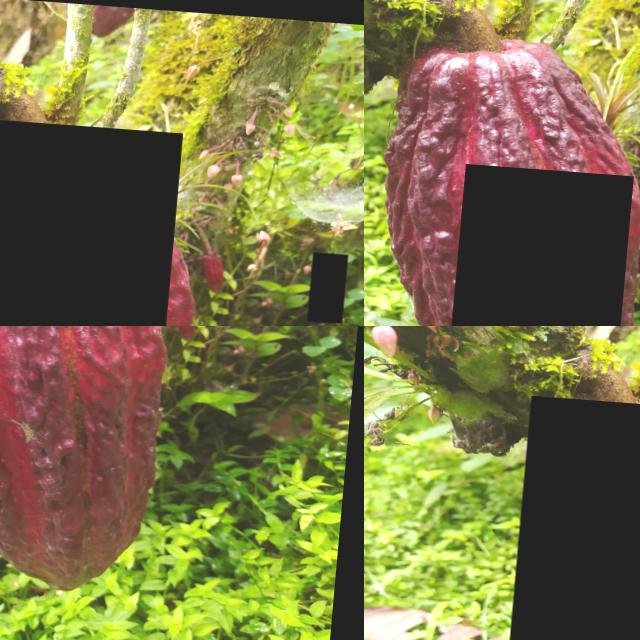Monilia: (0, 112, 185, 326), (313, 244, 352, 314)
Sana: (505, 392, 640, 640), (448, 159, 638, 326)
